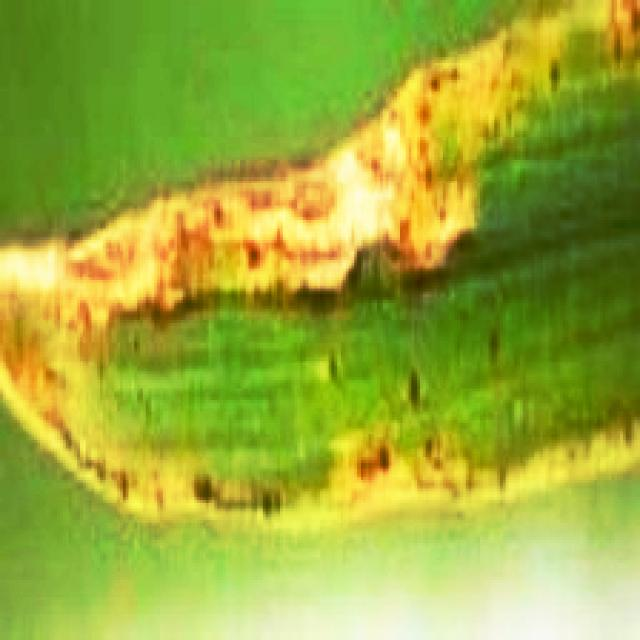unhealth: (0, 1, 640, 535)
